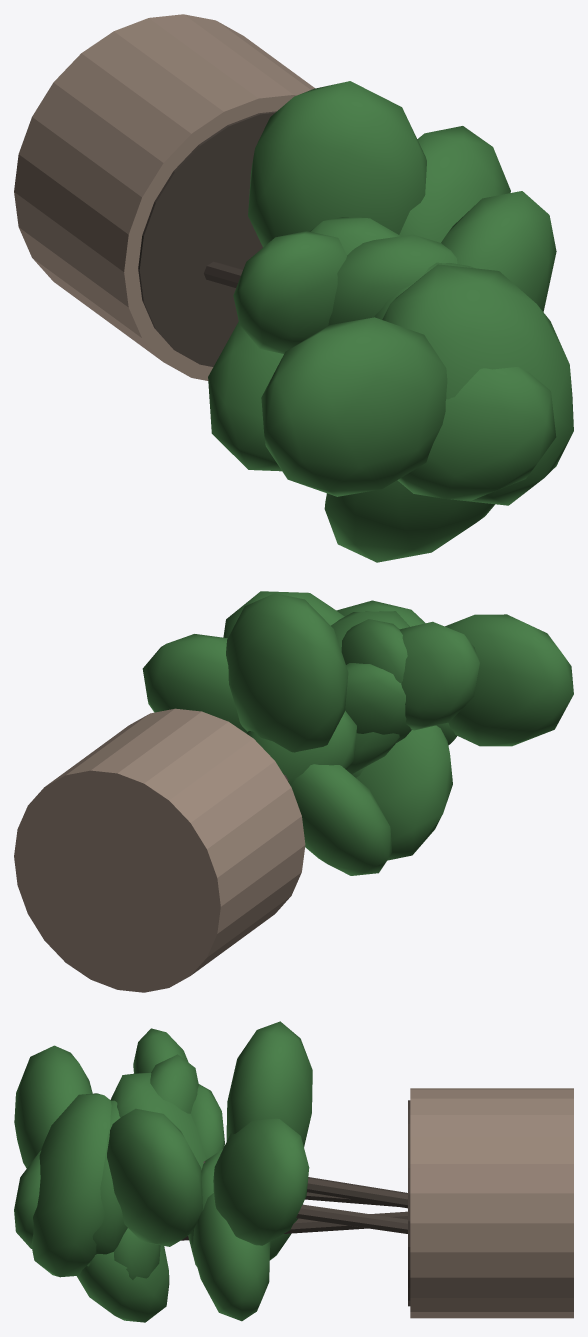
Rendered from reception_plant.glb.
3 views of the same model, one above another, from view 1: azimuth 30°, elevation 25°; view 2: azimuth 150°, elevation 25°; view 3: azimuth 270°, elevation 25° (orthographic). The views are drawn at different scales.
Visible parts, largest first — view 1: reception_plant_pot, reception_plant_leaf9, reception_plant_leaf1, reception_plant_soil, reception_plant_leaf8, reception_plant_leaf15, reception_plant_leaf4, reception_plant_leaf2, reception_plant_leaf5, reception_plant_leaf11, reception_plant_leaf13, reception_plant_leaf0 (+2 smaller); view 2: reception_plant_pot, reception_plant_leaf1, reception_plant_leaf9, reception_plant_leaf13, reception_plant_leaf2, reception_plant_leaf4, reception_plant_leaf11, reception_plant_leaf10, reception_plant_leaf3, reception_plant_leaf6, reception_plant_leaf0, reception_plant_leaf5 (+1 smaller); view 3: reception_plant_pot, reception_plant_leaf8, reception_plant_leaf5, reception_plant_leaf11, reception_plant_leaf1, reception_plant_leaf17, reception_plant_leaf9, reception_plant_leaf2, reception_plant_leaf0, reception_plant_leaf3, reception_plant_leaf14, reception_plant_stem0 (+9 smaller).
Boxes of the visible parts, x1=… form: reception_plant_pot: x1=14, y1=14, x2=314, y2=380; reception_plant_leaf9: x1=261, y1=317, x2=447, y2=496; reception_plant_leaf1: x1=248, y1=81, x2=426, y2=247; reception_plant_soil: x1=138, y1=111, x2=276, y2=366; reception_plant_leaf8: x1=382, y1=264, x2=573, y2=505; reception_plant_leaf15: x1=397, y1=367, x2=556, y2=500; reception_plant_leaf4: x1=233, y1=231, x2=346, y2=353; reception_plant_leaf2: x1=324, y1=480, x2=494, y2=562; reception_plant_leaf5: x1=441, y1=191, x2=556, y2=311; reception_plant_leaf11: x1=399, y1=126, x2=510, y2=242; reception_plant_leaf13: x1=208, y1=321, x2=283, y2=471; reception_plant_leaf0: x1=328, y1=234, x2=457, y2=325; reception_plant_pot: x1=14, y1=708, x2=305, y2=992; reception_plant_leaf1: x1=226, y1=593, x2=348, y2=752; reception_plant_leaf9: x1=445, y1=614, x2=573, y2=746; reception_plant_leaf13: x1=291, y1=764, x2=392, y2=875; reception_plant_leaf2: x1=356, y1=725, x2=452, y2=860; reception_plant_leaf4: x1=399, y1=621, x2=479, y2=730; reception_plant_leaf11: x1=142, y1=634, x2=247, y2=733; reception_plant_leaf10: x1=345, y1=663, x2=411, y2=743; reception_plant_leaf3: x1=341, y1=619, x2=407, y2=682; reception_plant_leaf6: x1=246, y1=711, x2=356, y2=785; reception_plant_leaf0: x1=331, y1=611, x2=409, y2=773; reception_plant_leaf5: x1=223, y1=591, x2=344, y2=638; reception_plant_pot: x1=410, y1=1088, x2=573, y2=1318; reception_plant_leaf8: x1=31, y1=1093, x2=111, y2=1277; reception_plant_leaf5: x1=107, y1=1108, x2=202, y2=1246; reception_plant_leaf11: x1=213, y1=1118, x2=309, y2=1245; reception_plant_leaf1: x1=226, y1=1021, x2=312, y2=1146; reception_plant_leaf17: x1=193, y1=1193, x2=270, y2=1321; reception_plant_leaf9: x1=14, y1=1045, x2=92, y2=1168; reception_plant_leaf2: x1=77, y1=1245, x2=169, y2=1322; reception_plant_leaf0: x1=110, y1=1072, x2=206, y2=1233; reception_plant_leaf3: x1=150, y1=1054, x2=198, y2=1113; reception_plant_leaf14: x1=87, y1=1100, x2=127, y2=1266; reception_plant_stem0: x1=296, y1=1204, x2=407, y2=1233.
Size of the model in its own units: 0.7395 by 0.7151 by 1.22.
